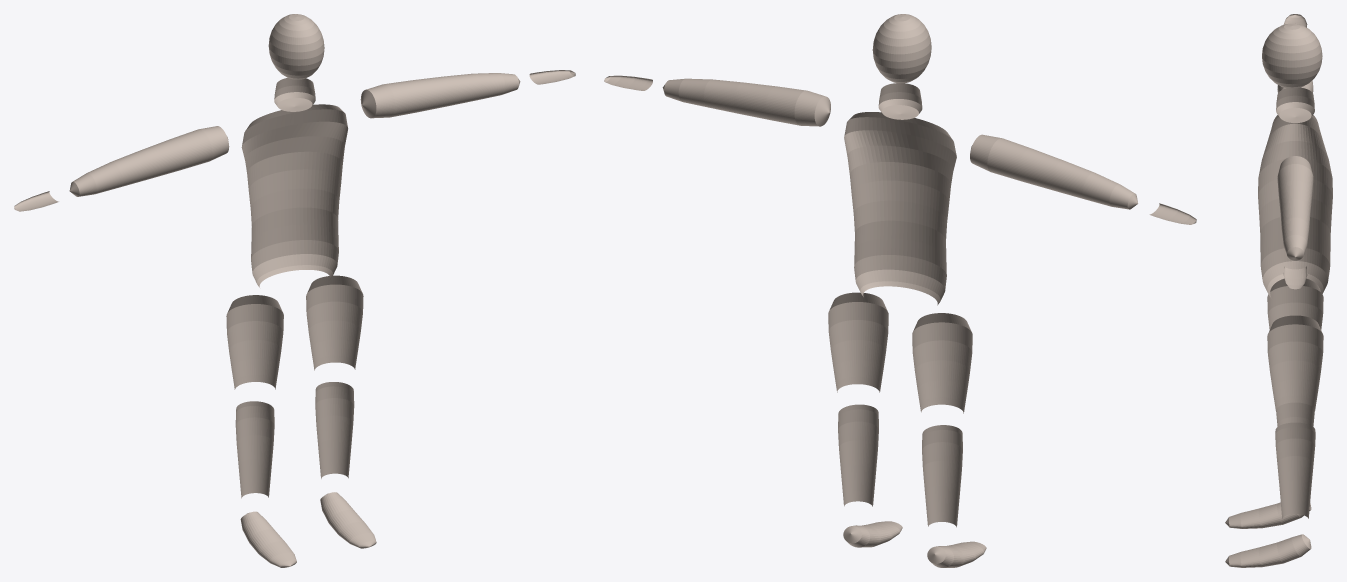
Rendered from body_mesh.glb.
3 views of the same model, side by side, from view 1: azimuth 30°, elevation 25°; view 2: azimuth 150°, elevation 25°; view 3: azimuth 270°, elevation 25° (orthographic). The views are drawn at different scales.
Parts seen in each view (by area): view 1: world; view 2: world; view 3: world.
Part boxes in pixels (x1,y1,x2,y2): world: (14,14,575,567); world: (604,14,1196,567); world: (1225,14,1332,567).
Bounding box in the file's own units: 2.05 × 1.81 × 0.341.
